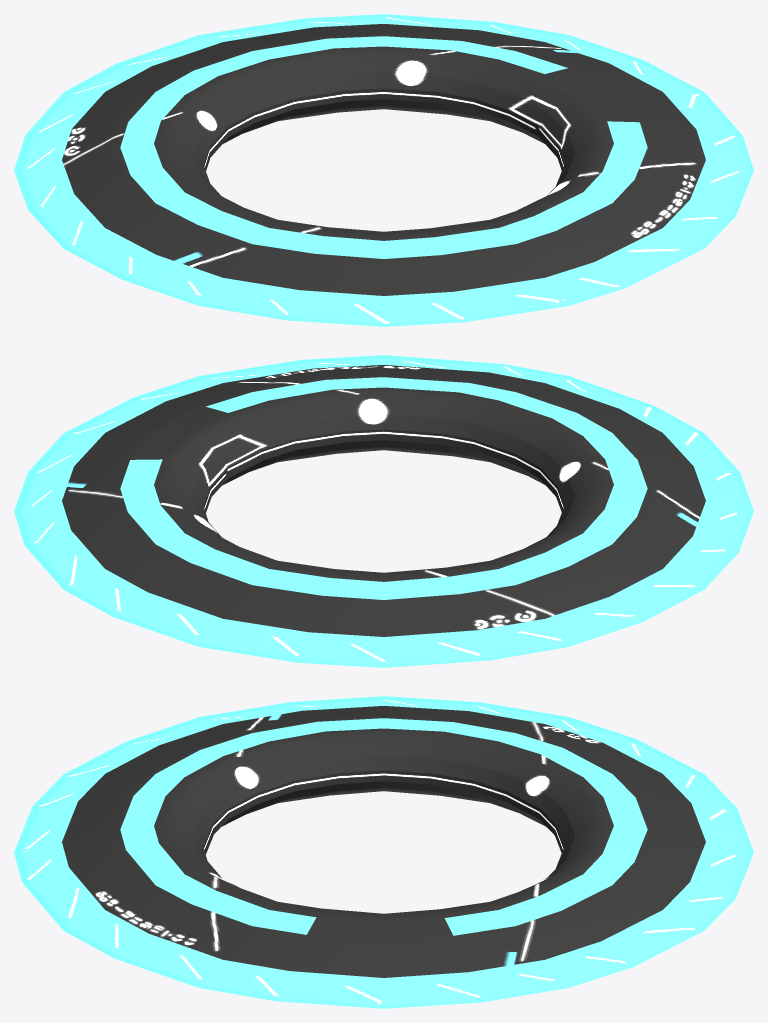
The picture shows the model from 3 angles, top to bottom: view 1: azimuth 30°, elevation 25°; view 2: azimuth 150°, elevation 25°; view 3: azimuth 270°, elevation 25°; orthographic projection.
Parts seen in each view (by area): view 1: discus; view 2: discus; view 3: discus.
Boxes of the visible parts, x1,y1,x2,y2 form: discus: (14,14,753,326); discus: (14,355,753,667); discus: (14,696,753,1008).
Size of the model in its own units: 2.09 by 0.1841 by 2.09.
Materials: 2 (2 with a texture image).
